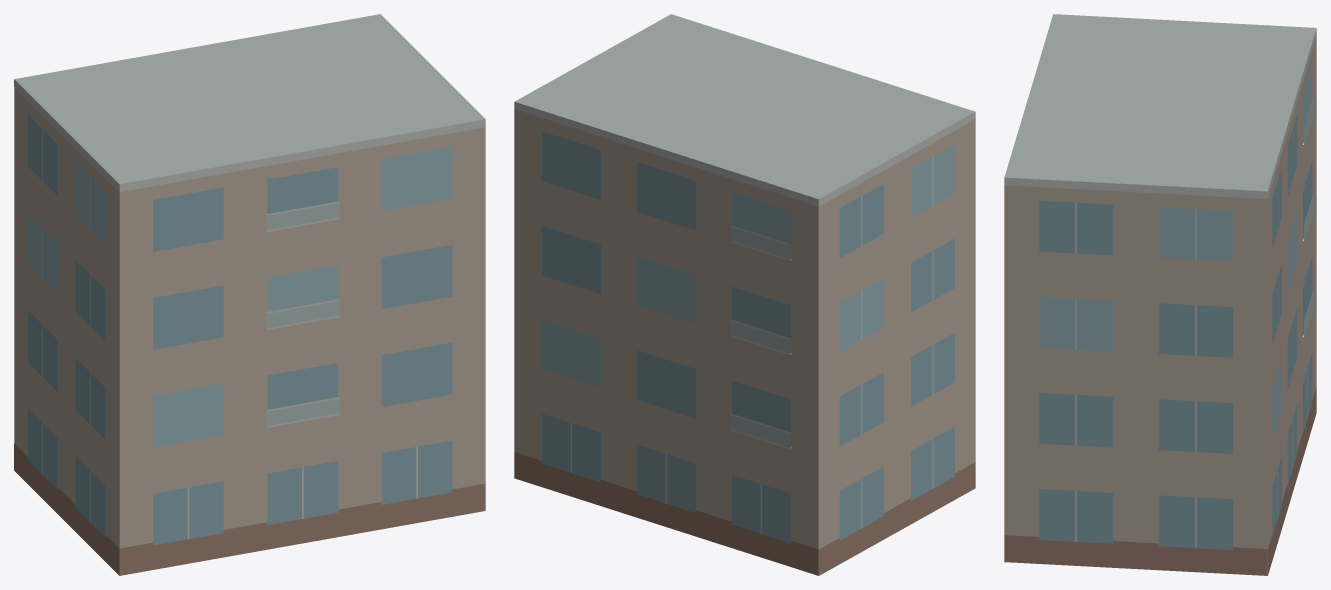
File: survey-upis-32801600.glb
The picture shows the model from 3 angles, left to right: view 1: azimuth 30°, elevation 25°; view 2: azimuth 150°, elevation 25°; view 3: azimuth 270°, elevation 25°; orthographic projection. The views are drawn at different scales.
Parts seen in each view (by area): view 1: survey-upis-32801600.tmp; view 2: survey-upis-32801600.tmp; view 3: survey-upis-32801600.tmp.
Boxes of the visible parts, <box> form: survey-upis-32801600.tmp: <box>14,14,485,575</box>; survey-upis-32801600.tmp: <box>514,14,975,575</box>; survey-upis-32801600.tmp: <box>1004,14,1316,575</box>.
Size of the model in its own units: 11.98 by 12.1 by 8.92.
